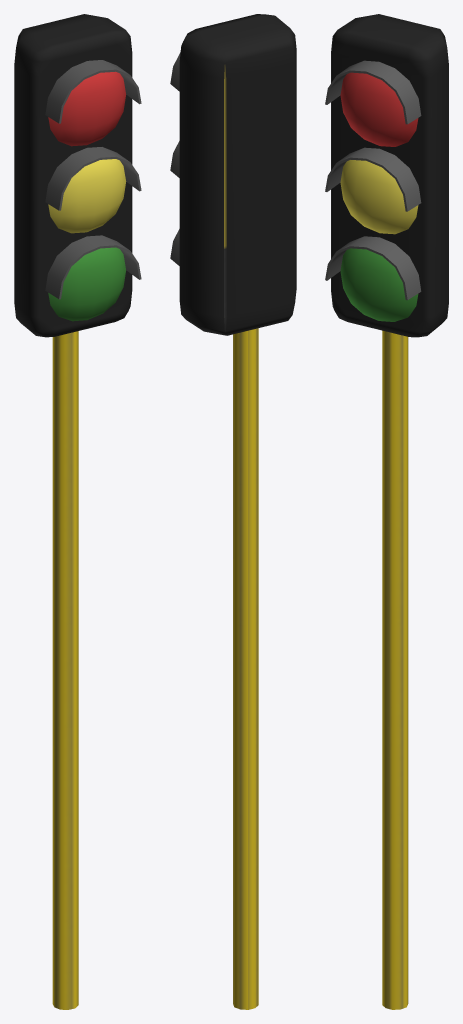
File: TraficLight_002.fbx
3 views of the same model, side by side, from view 1: azimuth 30°, elevation 25°; view 2: azimuth 210°, elevation 25°; view 3: azimuth 330°, elevation 25° (orthographic).
Parts seen in each view (by area): view 1: TraficLight_002; view 2: TraficLight_002; view 3: TraficLight_002.
Boxes of the visible parts, x1,y1,x2,y2 form: TraficLight_002: (14,14,141,1009); TraficLight_002: (170,14,296,1009); TraficLight_002: (325,14,448,1009).
Bounding box in the file's own units: 1.61 × 14.62 × 1.26.
